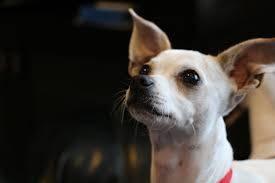chihuahua: (105, 1, 270, 182)
